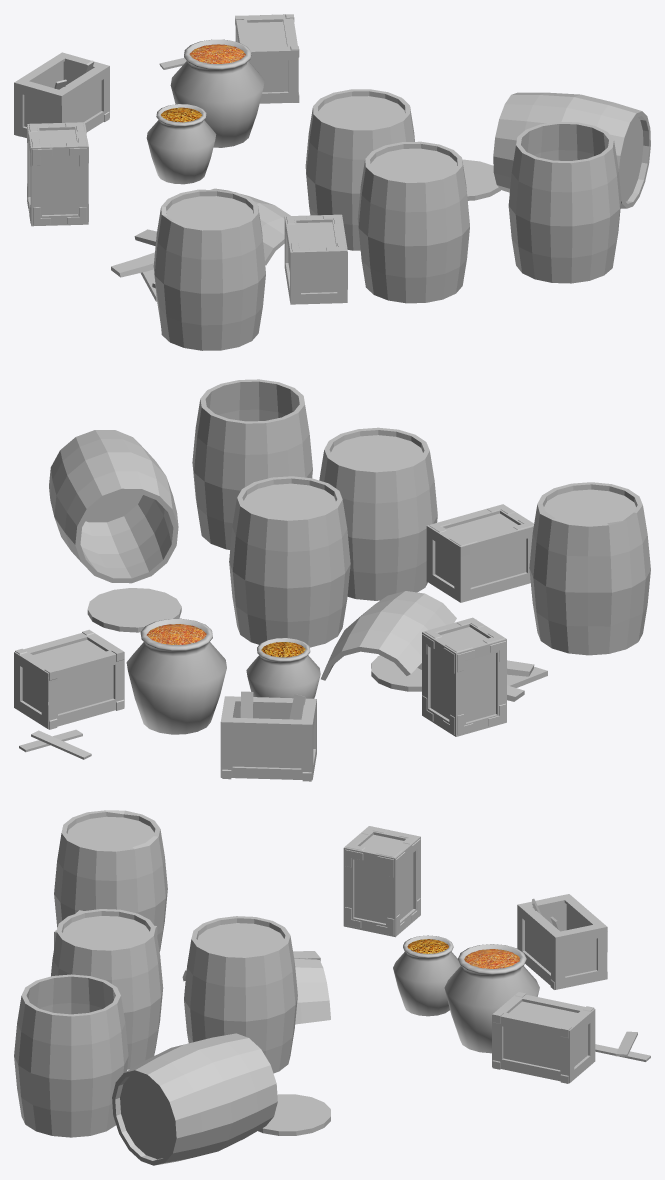
The model's file is Prop_ContainerPack.fbx.
3 renders of one model, top to bottom at view 1: azimuth 30°, elevation 25°; view 2: azimuth 150°, elevation 25°; view 3: azimuth 270°, elevation 25°, orthographic. The views are drawn at different scales.
Parts seen in each view (by area): view 1: barrel2.003, barrel2, barrel2.011, barrel1, barrel2.001, crate01, pot, crate01.003, crate01.001, crate01.002, pot.001, barrel2.008 (+3 smaller); view 2: barrel2.011, barrel1, barrel2.001, barrel2, barrel2.003, crate01, crate01.002, crate01.001, pot, crate01.003, barrel2.008, barrel2.002 (+3 smaller); view 3: barrel2.001, barrel2.003, barrel1, barrel2.011, barrel2, crate01.002, crate01, crate01.003, pot, pot.001, barrel2.002, barrel2.008 (+1 smaller).
Boxes of the visible parts, <box> form: barrel2.003: <box>508,121,621,283</box>; barrel2: <box>357,141,469,303</box>; barrel2.011: <box>153,189,265,350</box>; barrel1: <box>305,89,414,250</box>; barrel2.001: <box>493,92,650,208</box>; crate01: <box>27,122,88,226</box>; pot: <box>170,39,264,147</box>; crate01.003: <box>14,52,109,137</box>; crate01.001: <box>284,214,347,304</box>; crate01.002: <box>235,14,299,103</box>; pot.001: <box>146,104,216,184</box>; barrel2.008: <box>211,188,290,265</box>; barrel2.011: <box>529,482,650,655</box>; barrel1: <box>229,476,350,647</box>; barrel2.001: <box>49,430,178,583</box>; barrel2: <box>319,427,437,600</box>; barrel2.003: <box>192,379,312,549</box>; crate01: <box>422,617,506,736</box>; crate01.002: <box>14,629,124,729</box>; crate01.001: <box>426,504,533,602</box>; pot: <box>126,618,226,734</box>; crate01.003: <box>220,696,316,781</box>; barrel2.008: <box>321,591,456,680</box>; barrel2.002: <box>87,588,181,632</box>; barrel2.001: <box>112,1033,277,1165</box>; barrel2.003: <box>14,974,128,1137</box>; barrel1: <box>184,916,297,1073</box>; barrel2.011: <box>54,810,167,951</box>; barrel2: <box>51,909,163,1069</box>; crate01.002: <box>492,992,595,1083</box>; crate01: <box>343,826,420,937</box>; crate01.003: <box>517,894,607,989</box>; pot: <box>444,944,539,1053</box>; pot.001: <box>393,935,460,1016</box>; barrel2.002: <box>258,1094,330,1135</box>; barrel2.008: <box>182,958,330,1024</box>.
Size of the model in its own units: 887 by 202 by 927.
